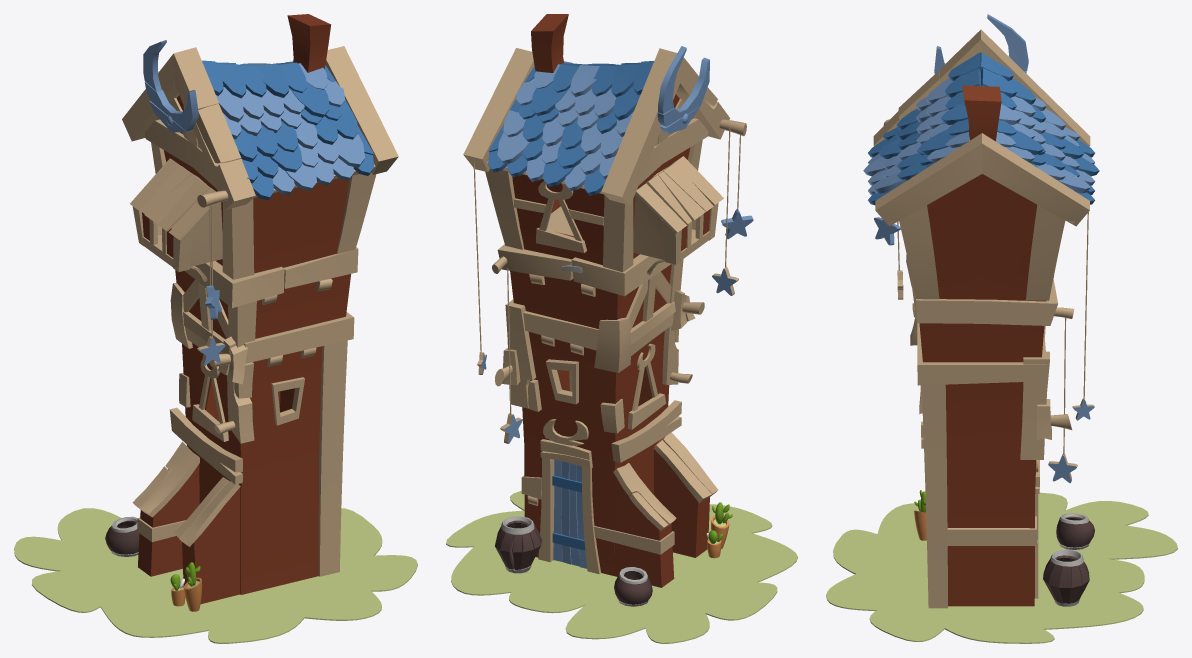
File: house_draft.glb
The picture shows the model from 3 angles, left to right: view 1: azimuth 30°, elevation 25°; view 2: azimuth 150°, elevation 25°; view 3: azimuth 270°, elevation 25°; orthographic projection. The views are drawn at different scales.
Parts seen in each view (by area): view 1: Box001, Line005, Box074, Box024, Box003, Box007, Box026, Box006, Box004, Box030, Circle001, Box068 (+27 smaller); view 2: Line005, Box001, Box025, Box003, Box007, Box006, Box027, Shape001, Box013, Circle001, Box028, Box002 (+39 smaller); view 3: Box001, Line005, Box074, Box026, Box027, Box003, Box004, Box046, Box073, Box013, Box011, Box024 (+9 smaller).
Part boxes in pixels (box(x1,y1,x2,y2)): Box001: box(164, 95, 350, 594); Line005: box(14, 508, 417, 643); Box074: box(318, 340, 347, 576); Box024: box(173, 47, 255, 209); Box003: box(184, 247, 358, 308); Box007: box(182, 480, 240, 603); Box026: box(325, 46, 398, 174); Box006: box(138, 446, 199, 576); Box004: box(244, 312, 354, 363); Box030: box(222, 198, 254, 279); Circle001: box(143, 40, 198, 132); Box068: box(132, 441, 199, 517); Line005: box(446, 490, 797, 643); Box001: box(510, 94, 693, 575); Box025: box(601, 48, 680, 205); Box003: box(497, 206, 671, 296); Box007: box(654, 437, 709, 557); Box006: box(614, 475, 674, 587); Box027: box(463, 48, 534, 172); Shape001: box(553, 459, 587, 568); Box013: box(505, 299, 541, 411); Circle001: box(657, 46, 709, 133); Box028: box(603, 195, 633, 272); Box002: box(633, 167, 710, 259); Box001: box(919, 174, 1046, 606); Line005: box(826, 492, 1177, 643); Box074: box(921, 384, 947, 608); Box026: box(875, 133, 982, 226); Box027: box(982, 133, 1089, 226); Box003: box(906, 255, 1058, 325); Box004: box(917, 323, 1046, 385); Box046: box(1026, 205, 1065, 300); Box073: box(899, 205, 939, 299); Box013: box(1020, 351, 1049, 459); Box011: box(962, 85, 1001, 141); Box024: box(873, 30, 981, 146).
Size of the model in its own units: 581 by 949 by 575.
